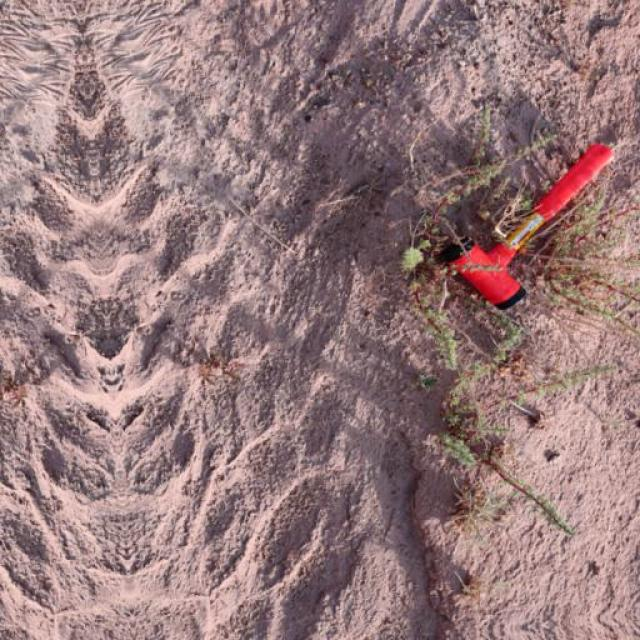mallet: (436, 140, 615, 310)
